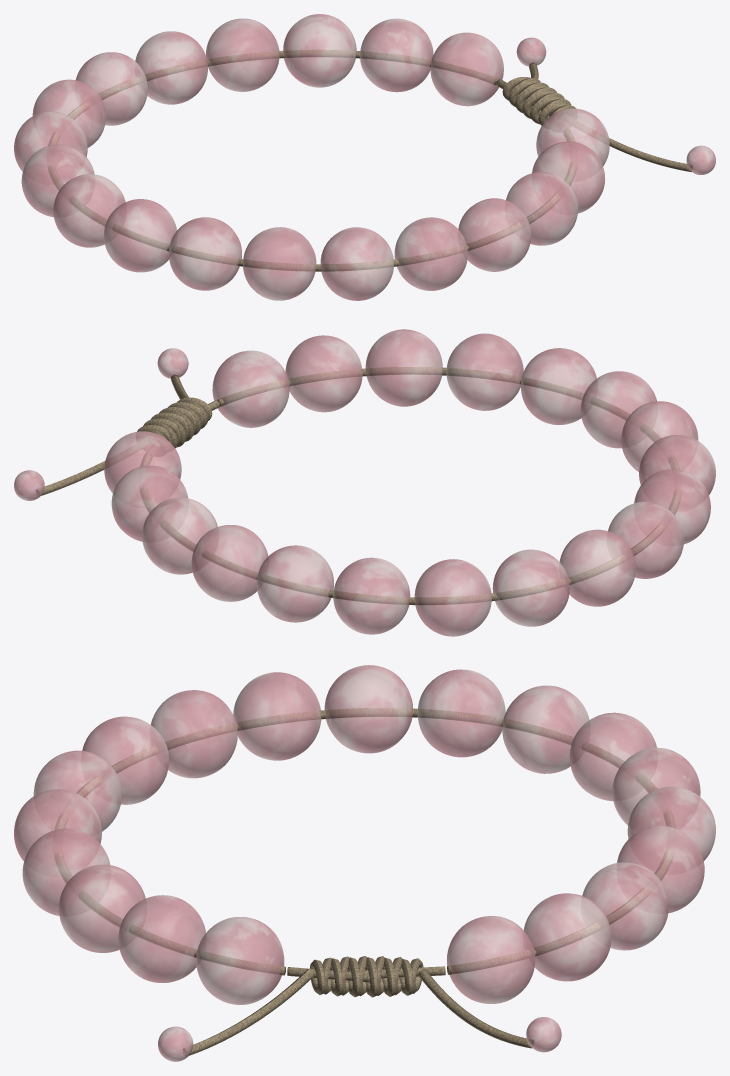
File: kwarc.glb
3 views of the same model, one above another, from view 1: azimuth 30°, elevation 25°; view 2: azimuth 150°, elevation 25°; view 3: azimuth 270°, elevation 25° (orthographic). The views are drawn at different scales.
Parts seen in each view (by area): view 1: nic.007, bead_round_1.004, bead_round_0.004, bead_round_2, bead_round_0.001, bead_round_1, bead_round_2.004, bead_round_2.003, bead_round_0, bead_round_1.003, bead_round_0.005, bead_round_1.001 (+11 smaller); view 2: nic.007, bead_round_1.005, bead_round_0.002, bead_round_1.001, bead_round_0.005, bead_round_1.002, bead_round_2.001, bead_round_2.005, bead_round_0.006, bead_round_2.002, bead_round_0.001, bead_round_2.004 (+11 smaller); view 3: nic.007, bead_round_0.003, bead_round_0.006, bead_round_1.003, bead_round_0, bead_round_2.002, bead_round_2.005, bead_round_1, bead_round_2.003, bead_round_1.002, bead_round_1.005, bead_round_2 (+12 smaller).
Boxes of the visible parts, box(x1,y1,x2,y2) form: nic.007: box(48, 50, 576, 271); bead_round_1.004: box(320, 227, 393, 300); bead_round_0.004: box(243, 227, 316, 300); bead_round_2: box(283, 14, 356, 87); bead_round_0.001: box(206, 18, 279, 91); bead_round_1: box(360, 18, 433, 92); bead_round_2.004: box(394, 217, 467, 290); bead_round_2.003: box(169, 217, 241, 290); bead_round_0: box(430, 32, 503, 106); bead_round_1.003: box(104, 199, 176, 272); bead_round_0.005: box(458, 198, 531, 271); bead_round_1.001: box(135, 31, 207, 104); nic.007: box(140, 367, 681, 605); bead_round_1.005: box(365, 329, 442, 406); bead_round_0.002: box(414, 559, 491, 636); bead_round_1.001: box(256, 545, 333, 622); bead_round_0.005: box(446, 333, 523, 410); bead_round_1.002: box(492, 549, 569, 626); bead_round_2.001: box(333, 557, 410, 634); bead_round_2.005: box(285, 335, 362, 412); bead_round_0.006: box(212, 350, 289, 427); bead_round_2.002: box(559, 529, 635, 606); bead_round_0.001: box(191, 525, 268, 601); bead_round_2.004: box(521, 348, 596, 424); nic.007: box(54, 708, 675, 975); bead_round_0.003: box(324, 665, 412, 753); bead_round_0.006: box(196, 917, 284, 1004); bead_round_1.003: box(233, 672, 321, 760); bead_round_0: box(447, 916, 535, 1003); bead_round_2.002: box(417, 669, 505, 757); bead_round_2.005: box(118, 895, 205, 982); bead_round_1: box(523, 893, 611, 981); bead_round_2.003: box(150, 690, 237, 778); bead_round_1.002: box(502, 685, 589, 773); bead_round_1.005: box(58, 864, 145, 952); bead_round_2: box(582, 862, 668, 950).
Bounding box in the file's own units: 7.22 × 0.8021 × 6.36.
Materials: 4 (4 with a texture image).
